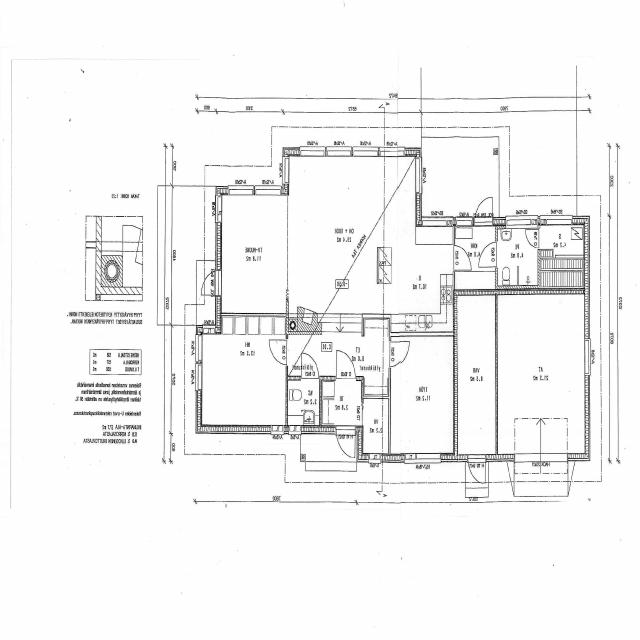door: (336, 424, 356, 462), (474, 190, 493, 226), (337, 349, 356, 381), (198, 270, 222, 295), (468, 453, 485, 487), (477, 242, 498, 267), (389, 341, 409, 367), (453, 244, 472, 270), (268, 340, 288, 364), (302, 352, 318, 381), (524, 229, 540, 249)
